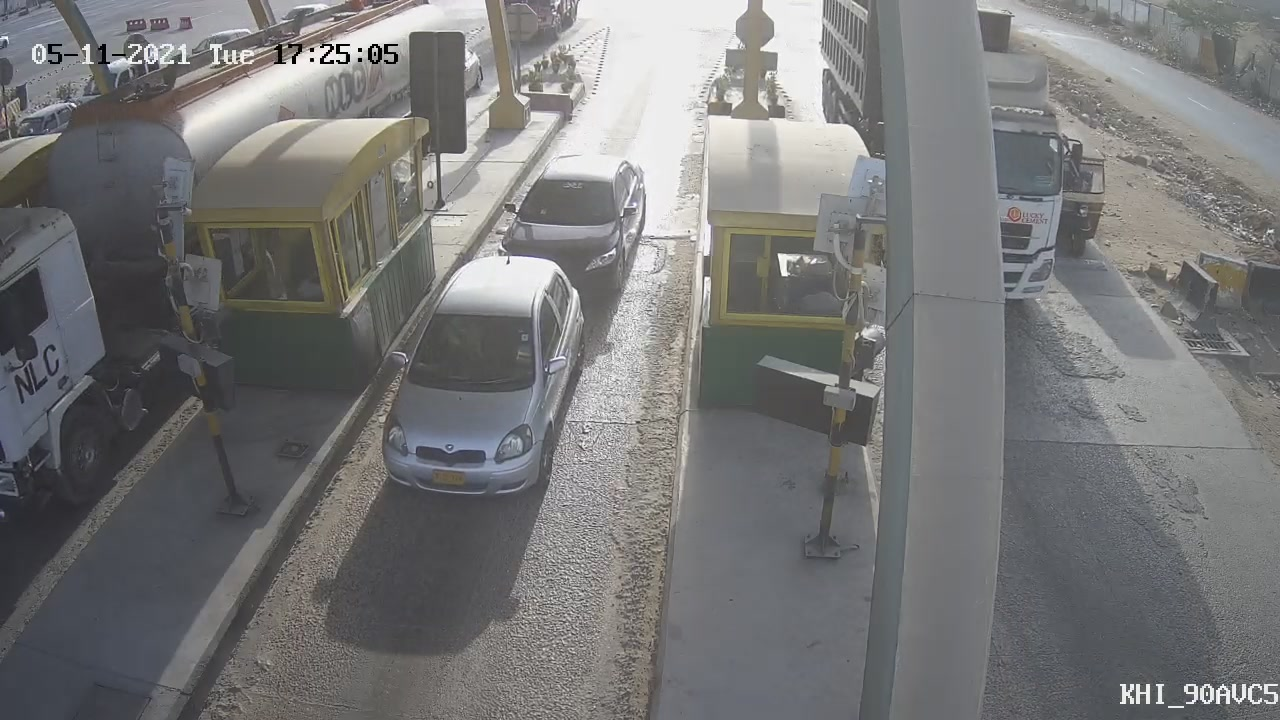F1: (359, 235, 604, 514), (478, 134, 663, 325)
